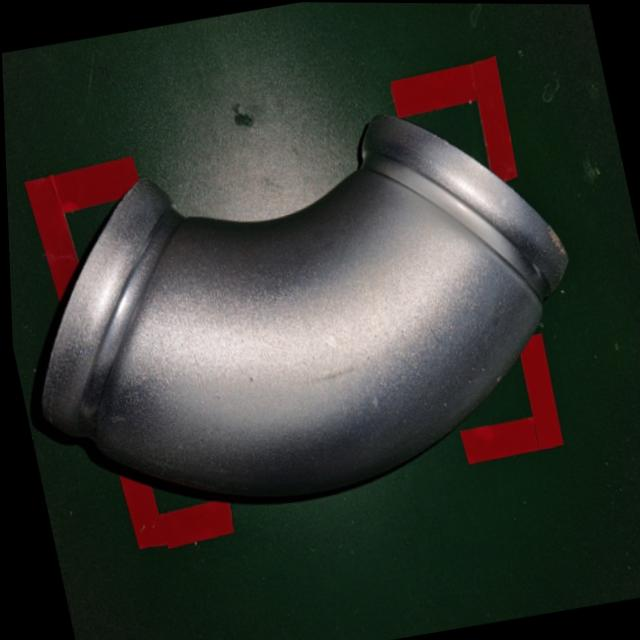Normal: (2, 68, 625, 561)
